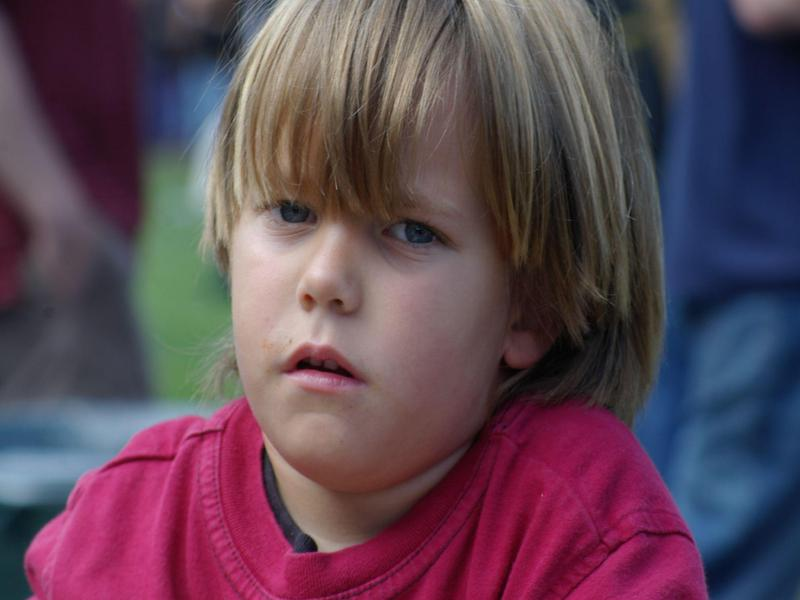person: (24, 1, 710, 600)
